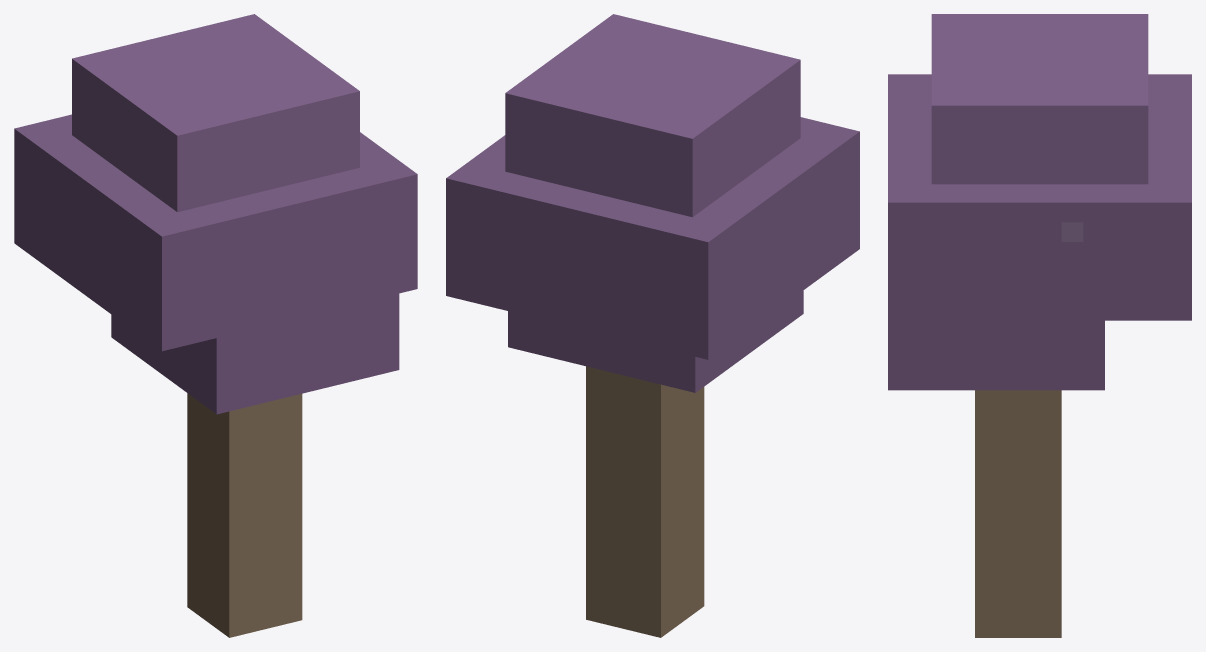
File: ciruelo_silvestre_02.glb
3 views of the same model, side by side, from view 1: azimuth 30°, elevation 25°; view 2: azimuth 150°, elevation 25°; view 3: azimuth 270°, elevation 25° (orthographic). The views are drawn at different scales.
Parts seen in each view (by area): view 1: ciruelo_silvestre_02; view 2: ciruelo_silvestre_02; view 3: ciruelo_silvestre_02.
Boxes of the visible parts, x1,y1,x2,y2 form: ciruelo_silvestre_02: (14, 14, 417, 637); ciruelo_silvestre_02: (446, 14, 859, 637); ciruelo_silvestre_02: (888, 14, 1191, 637).
Size of the model in its own units: 1.4 by 2.8 by 1.4.
